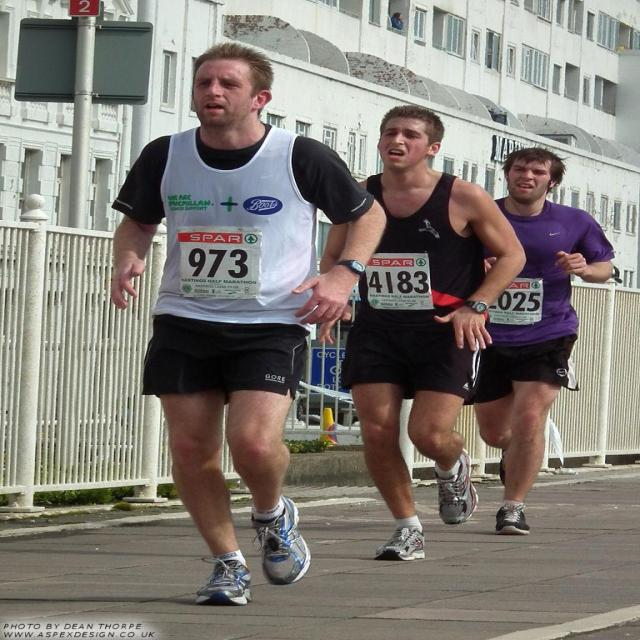Bib: (174, 244, 256, 286), (366, 271, 428, 297), (487, 290, 545, 317)
